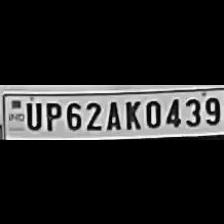0: (142, 97, 162, 127)
2: (82, 98, 102, 130)
3: (182, 94, 200, 125)
4: (162, 96, 182, 126)
6: (61, 98, 80, 130)
9: (202, 94, 220, 124)
A: (104, 98, 122, 130)
K: (122, 96, 140, 130)
P: (42, 98, 62, 130)
U: (22, 99, 42, 129)
